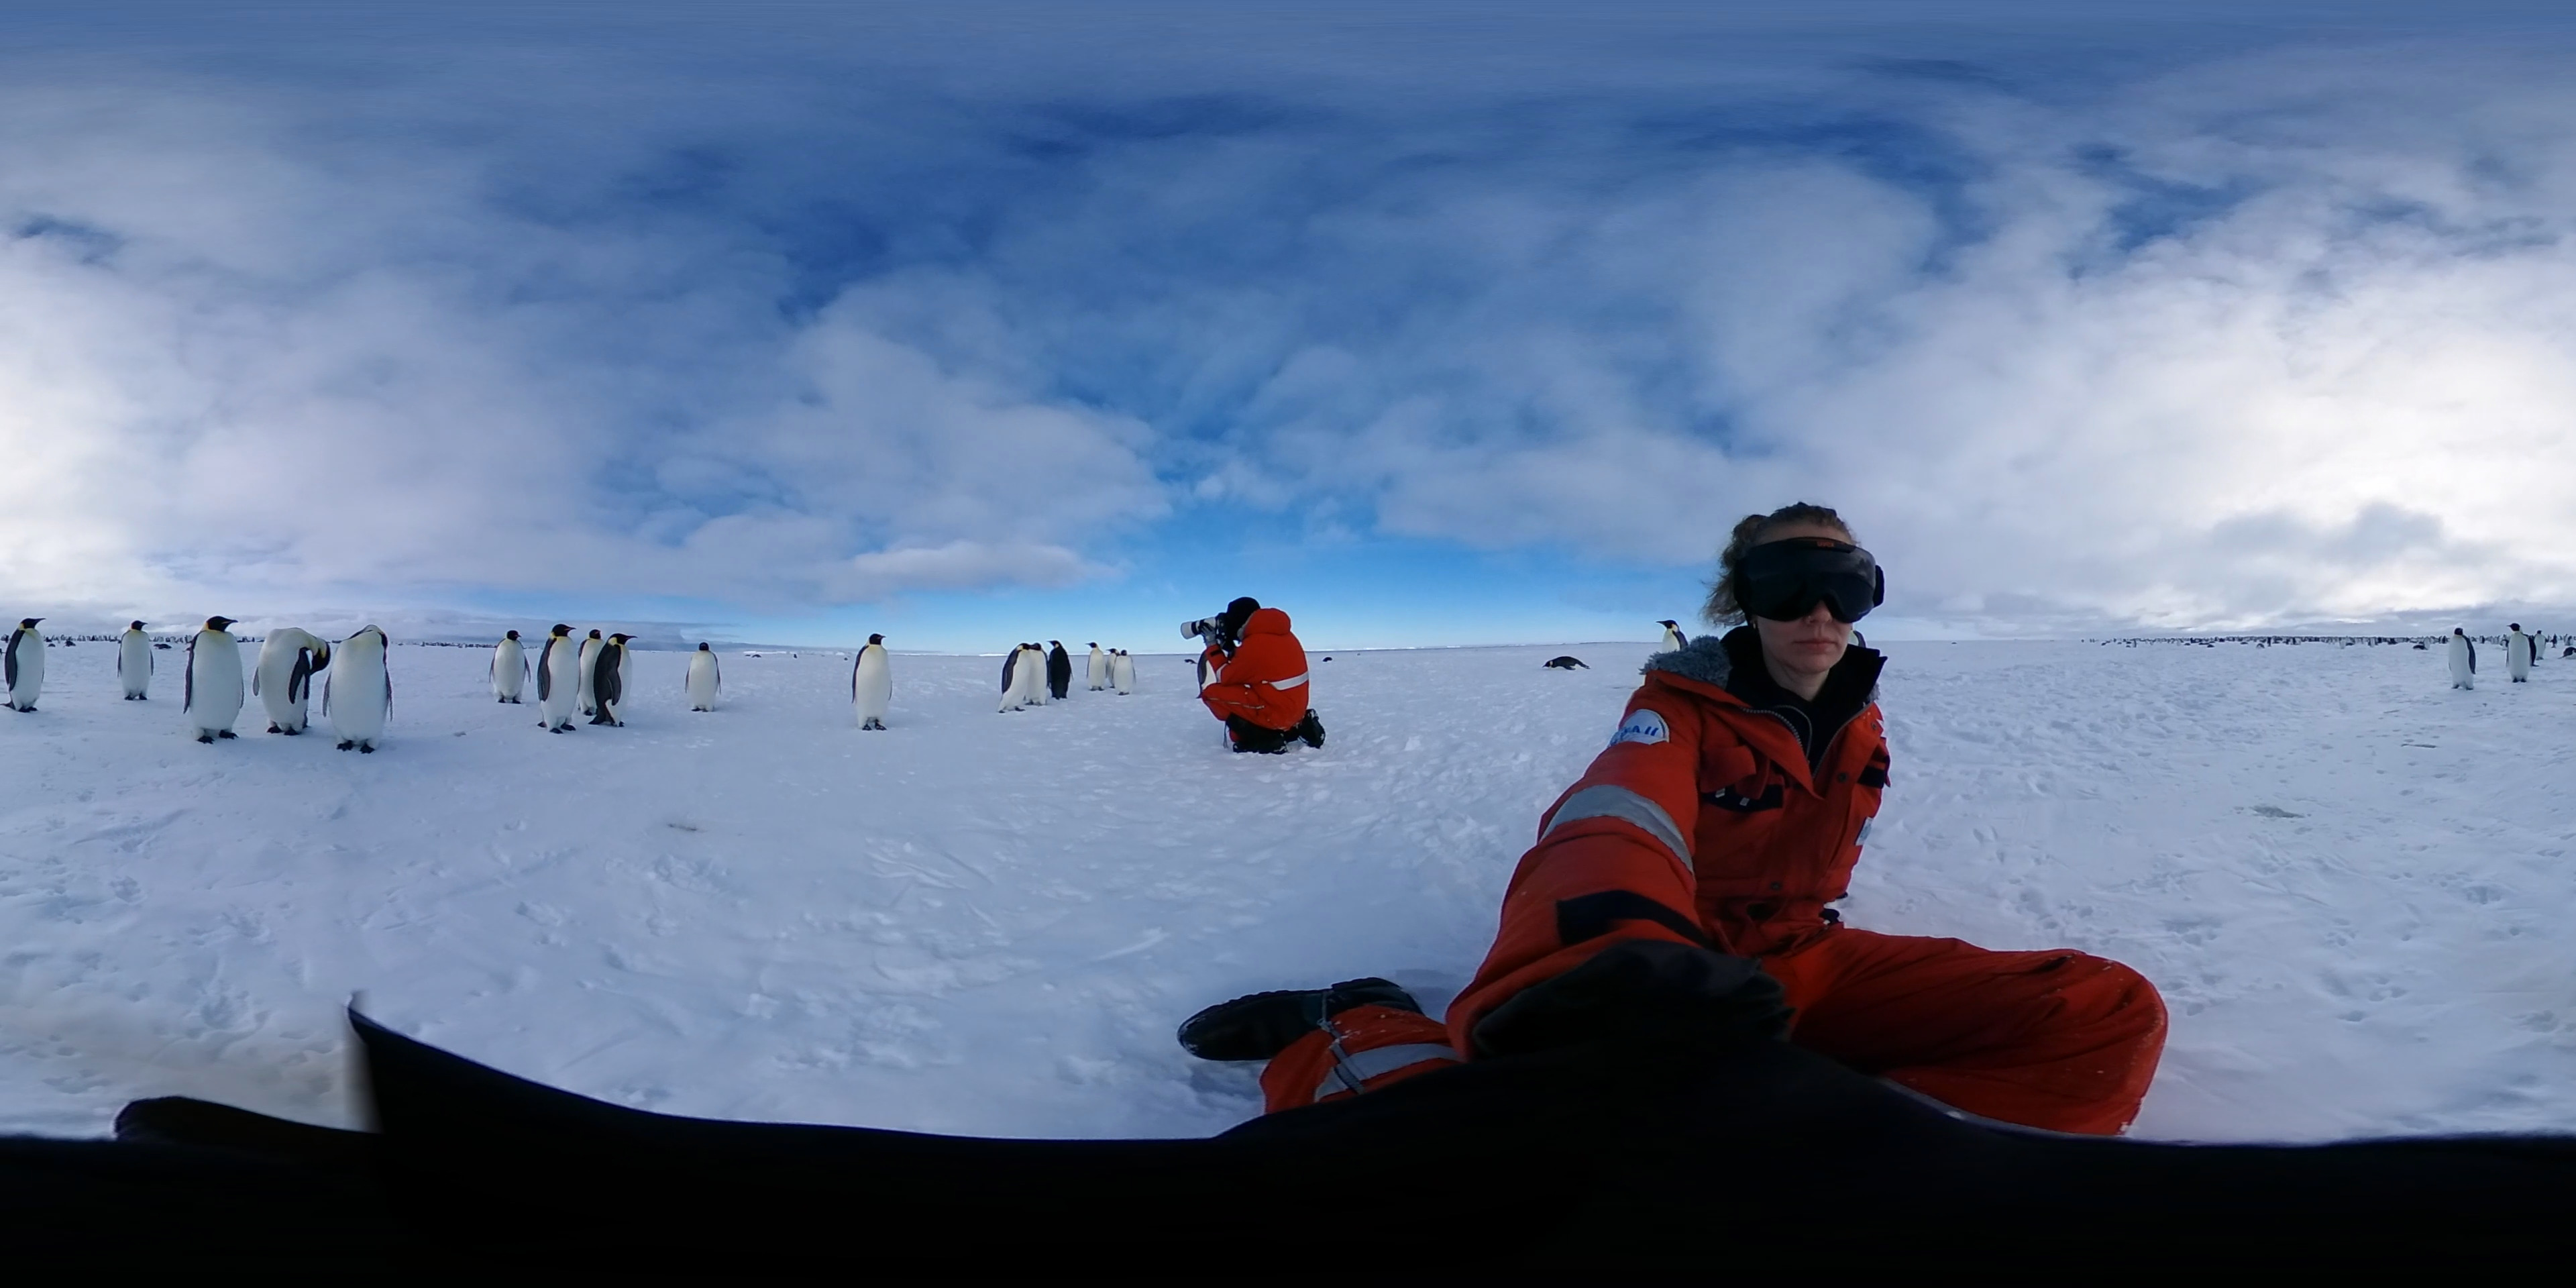adult_standing_penguin: (322, 623, 396, 759), (250, 623, 333, 738), (182, 614, 245, 746), (848, 628, 897, 733), (537, 621, 582, 736), (0, 616, 49, 713), (595, 634, 636, 731), (485, 628, 534, 705), (113, 618, 154, 703), (682, 639, 723, 713), (992, 642, 1030, 716), (577, 631, 608, 716), (2446, 626, 2481, 692), (1043, 637, 1074, 701), (2504, 621, 2533, 685), (1025, 641, 1053, 708), (1653, 613, 1692, 660), (1112, 647, 1138, 698), (1081, 641, 1106, 693), (1107, 644, 1124, 692)
adult_toboggan_penguin: (1539, 654, 1592, 675)
researcher: (1163, 490, 2173, 1140), (1173, 586, 1324, 754)
